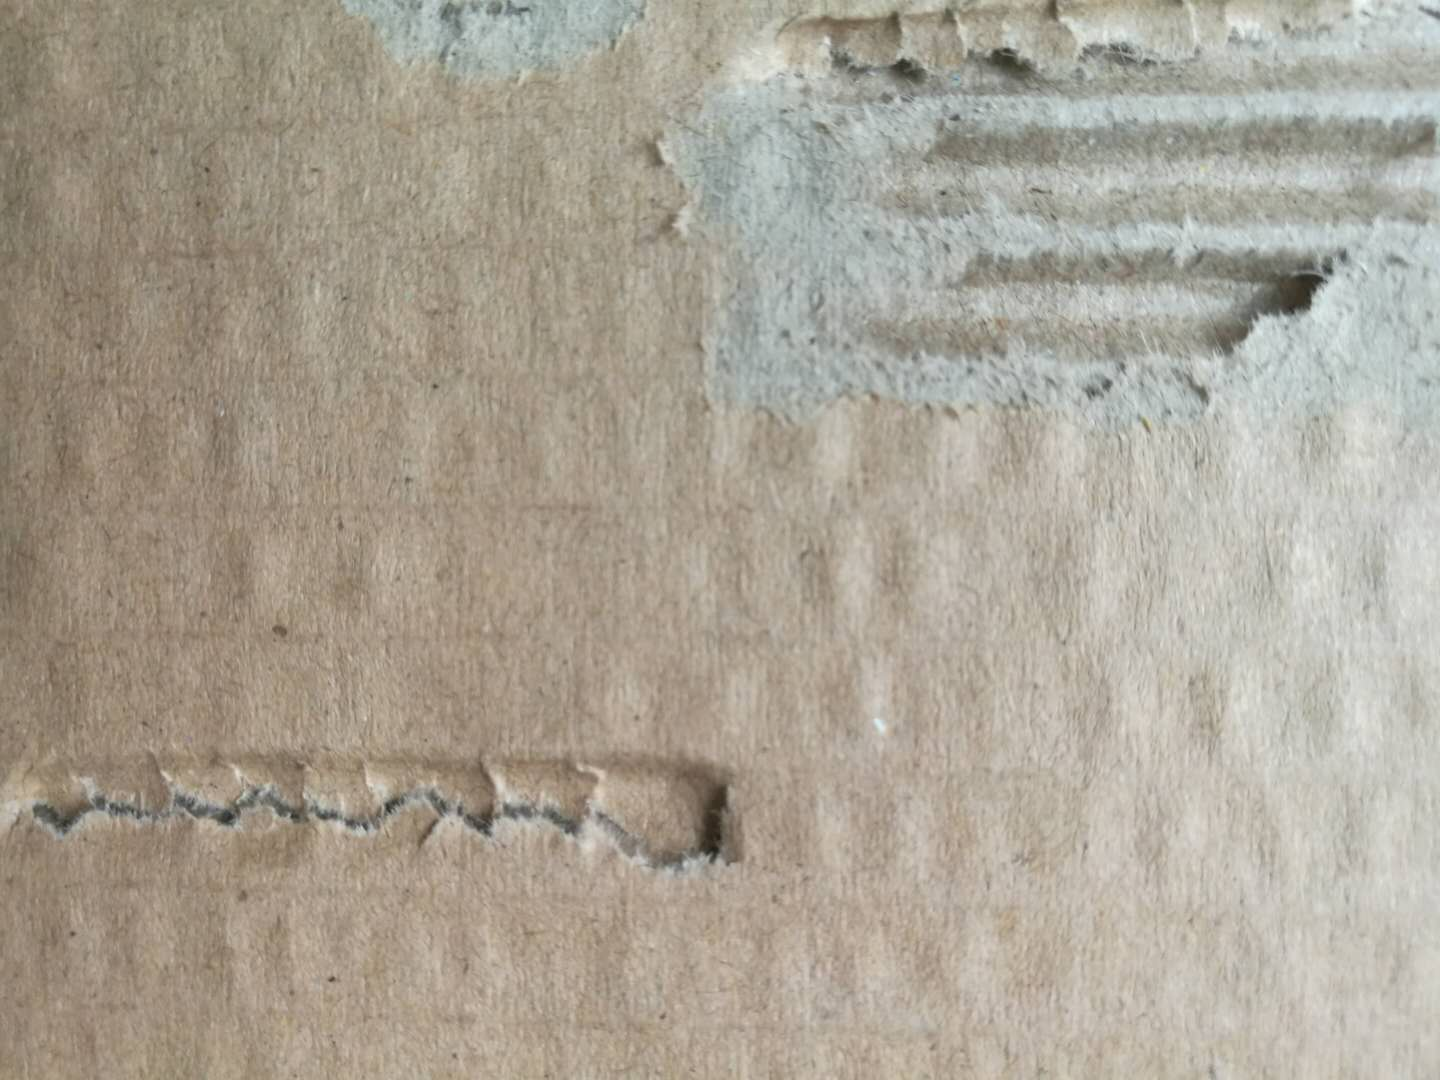defect: (610, 1, 1440, 500), (1, 704, 827, 923), (310, 1, 686, 95)
